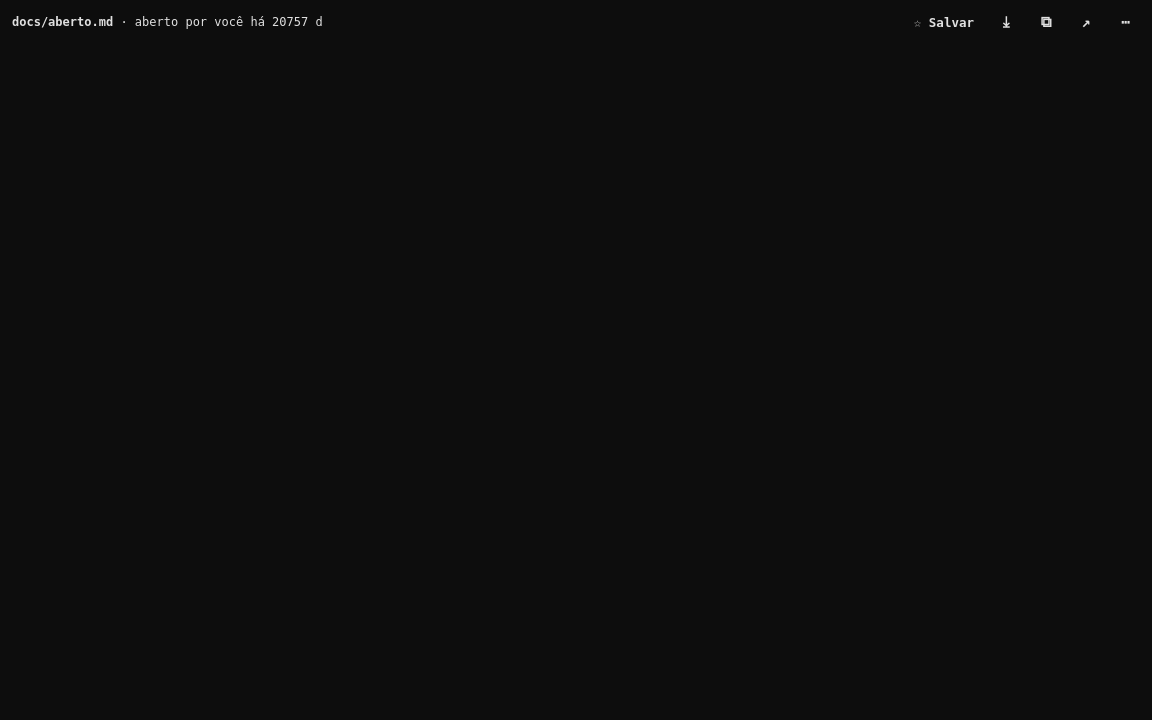
"☆ Salvar em Artefatos" no visualizador do chat › aparece para .md aberto no chat que ainda não é artefato e salva com POST
The image size is (1152, 720).
Click the button with test id "viewer-save-artifact" at (944,22), box [904,4,984,40]
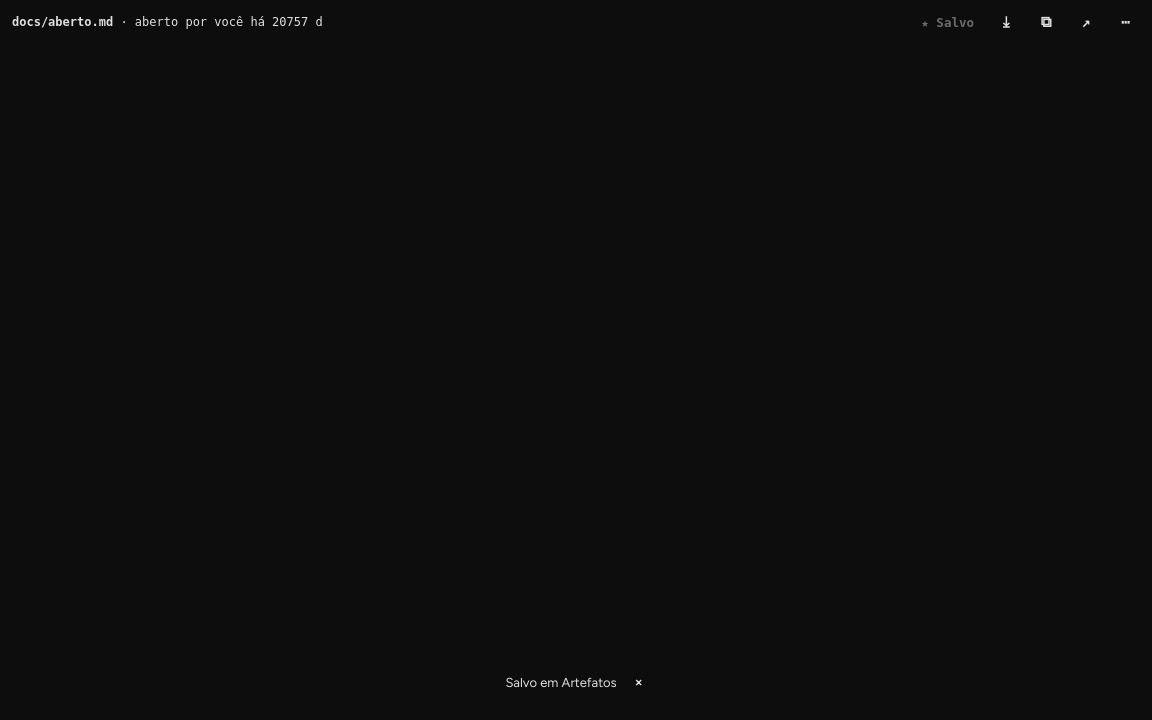
Now the button with test id "viewer-save-artifact" reads "★ Salvo", box [911,4,984,40]
Now the message with test id "viewer-toast" shows "Salvo em Artefatos", box [505,674,617,690]
